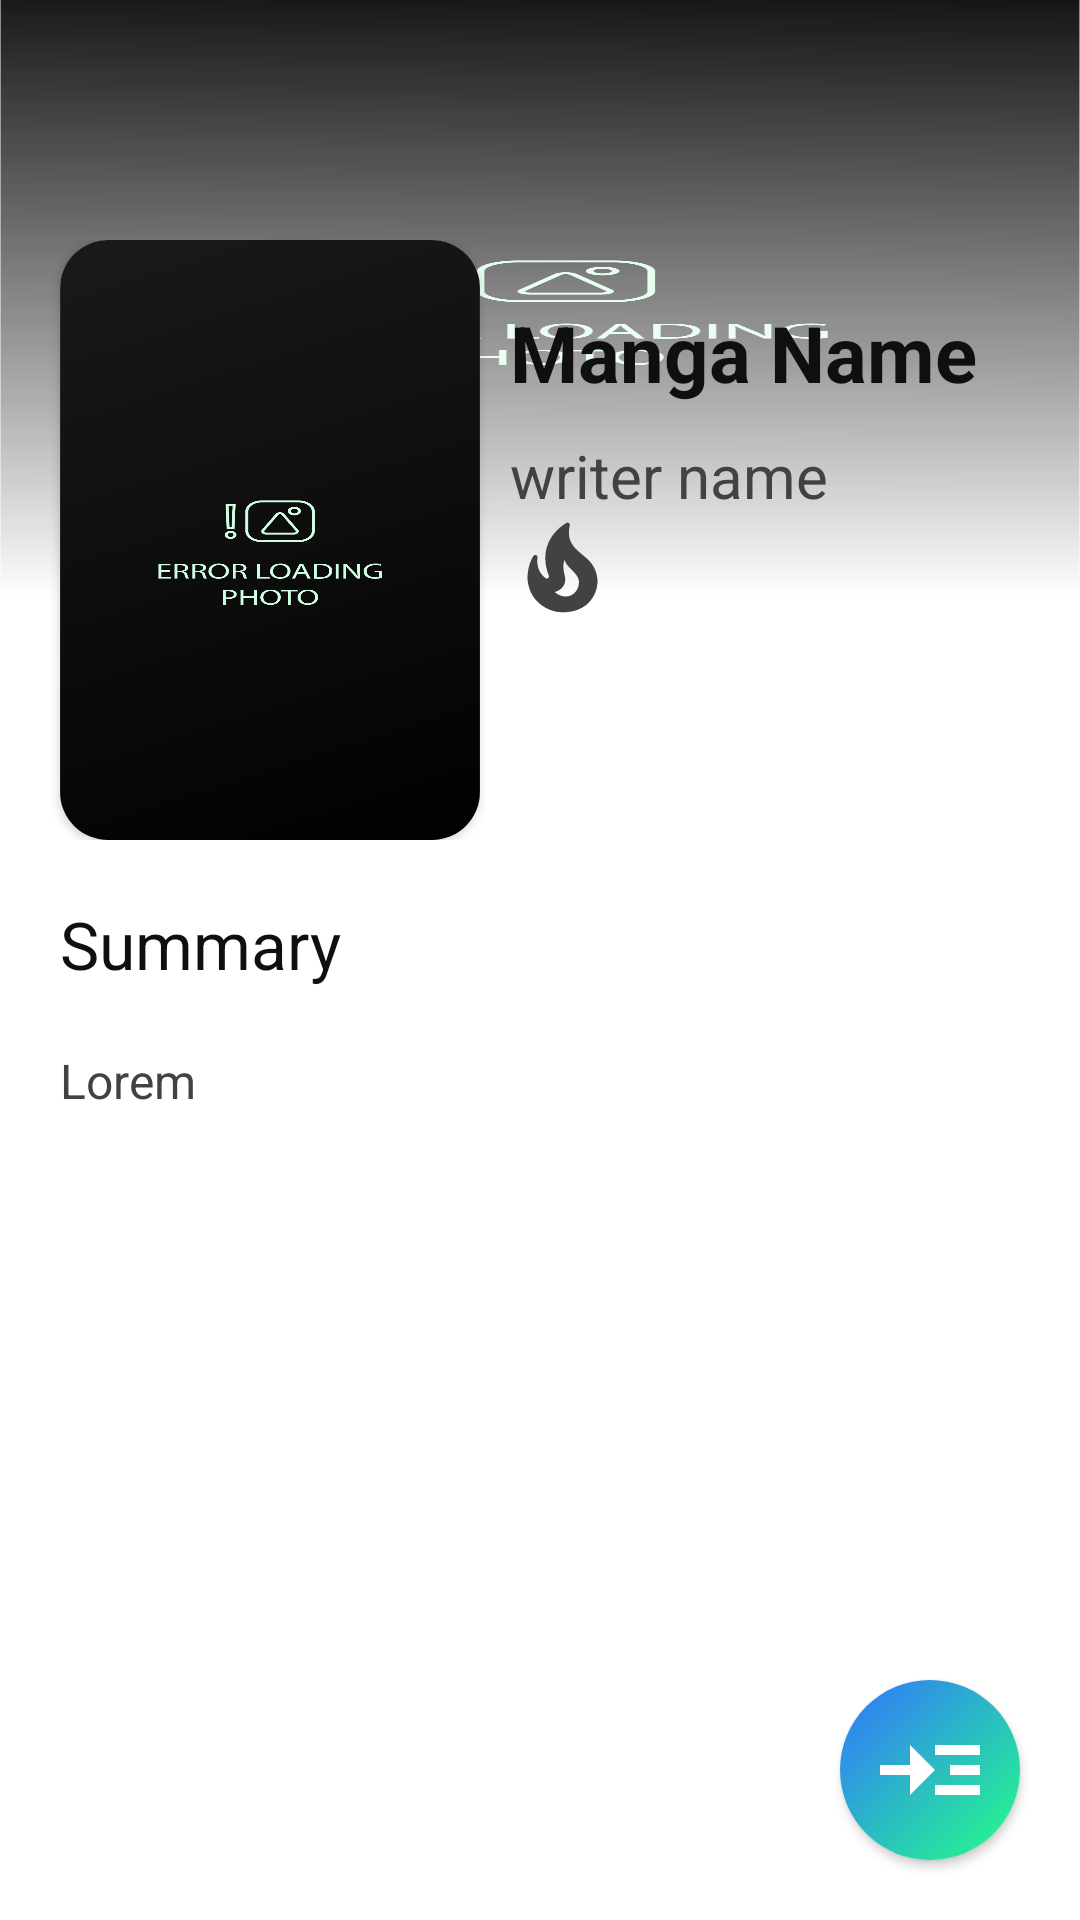

Where to tap for icons on this 1080x1920 app screen, as [x,y]:
read more: [930,1770]
trend: [562,564]
